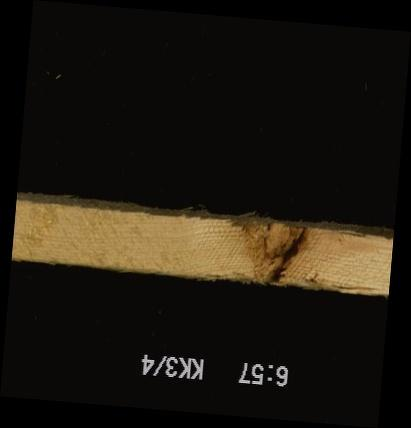edge_knot: (232, 219, 306, 282)
